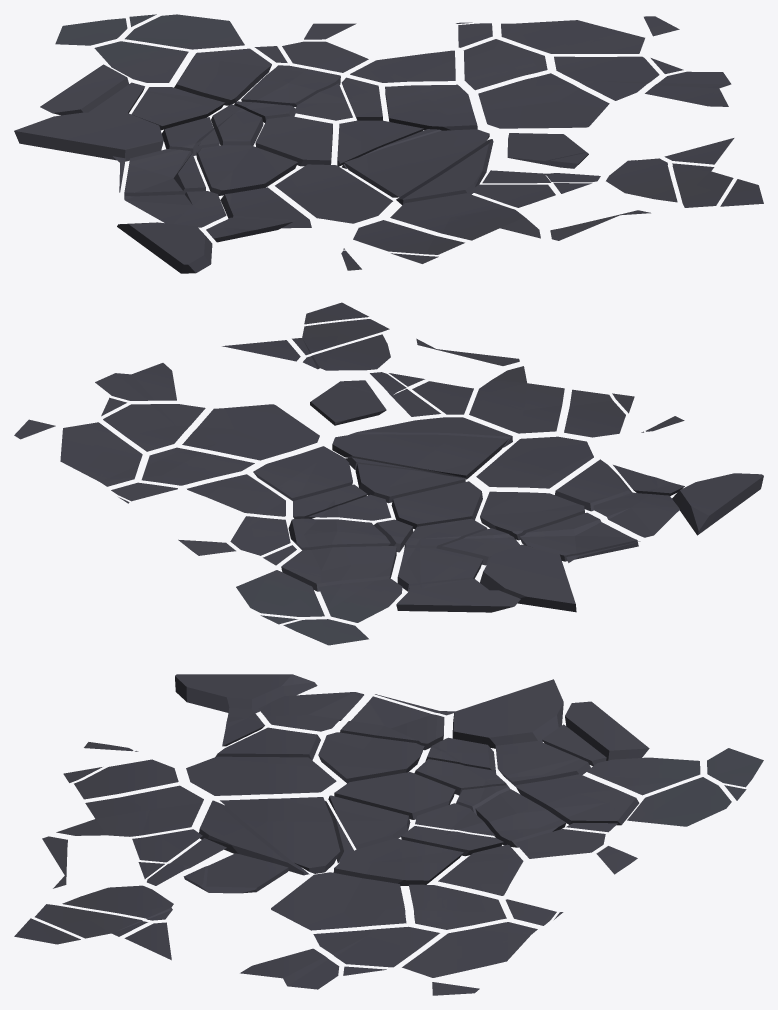
Rendered from rocas.fbx.
3 views of the same model, one above another, from view 1: azimuth 30°, elevation 25°; view 2: azimuth 150°, elevation 25°; view 3: azimuth 270°, elevation 25° (orthographic). The views are drawn at different scales.
Parts seen in each view (by area): view 1: Piso_Detalle1.031, Piso_Detalle1.043, Piso_Detalle1.026, Piso_Detalle1.007, Piso_Detalle1.051, Piso_Detalle1.002, Piso_Detalle1, Piso_Detalle1.039, Piso_Detalle1.013, Piso_Detalle1.030, Piso_Detalle1.016, Piso_Detalle1.045 (+33 smaller); view 2: Piso_Detalle1.026, Piso_Detalle1.043, Piso_Detalle1.031, Piso_Detalle1.051, Piso_Detalle1.007, Piso_Detalle1.039, Piso_Detalle1.002, Piso_Detalle1, Piso_Detalle1.013, Piso_Detalle1.030, Piso_Detalle1.045, Piso_Detalle1.016 (+32 smaller); view 3: Piso_Detalle1.043, Piso_Detalle1.026, Piso_Detalle1.031, Piso_Detalle1.007, Piso_Detalle1.051, Piso_Detalle1.002, Piso_Detalle1.039, Piso_Detalle1, Piso_Detalle1.045, Piso_Detalle1.013, Piso_Detalle1.052, Piso_Detalle1.016 (+33 smaller).
Part boxes in pixels (x1,y1,x2,y2): Piso_Detalle1.031: (14, 112, 163, 161); Piso_Detalle1.043: (478, 73, 609, 128); Piso_Detalle1.026: (344, 129, 489, 197); Piso_Detalle1.007: (275, 164, 392, 223); Piso_Detalle1.051: (390, 193, 540, 240); Piso_Detalle1.002: (501, 20, 644, 53); Piso_Detalle1: (385, 84, 477, 130); Piso_Detalle1.039: (174, 48, 271, 105); Piso_Detalle1.013: (196, 145, 297, 195); Piso_Detalle1.030: (124, 149, 205, 199); Piso_Detalle1.016: (554, 56, 659, 100); Piso_Detalle1.045: (117, 222, 212, 273); Piso_Detalle1.026: (332, 434, 508, 479); Piso_Detalle1.043: (182, 404, 319, 460); Piso_Detalle1.031: (480, 544, 576, 612); Piso_Detalle1.051: (469, 366, 564, 433); Piso_Detalle1.007: (476, 436, 593, 488); Piso_Detalle1.039: (281, 546, 396, 591); Piso_Detalle1.002: (60, 422, 142, 486); Piso_Detalle1: (253, 446, 352, 500); Piso_Detalle1.013: (480, 491, 584, 540); Piso_Detalle1.030: (520, 512, 638, 561); Piso_Detalle1.045: (672, 473, 763, 535); Piso_Detalle1.016: (103, 404, 205, 451); Piso_Detalle1.043: (271, 872, 406, 930); Piso_Detalle1.026: (220, 797, 340, 873); Piso_Detalle1.031: (452, 679, 563, 748); Piso_Detalle1.007: (186, 756, 336, 795); Piso_Detalle1.051: (56, 785, 203, 836); Piso_Detalle1.002: (402, 922, 537, 977); Piso_Detalle1.039: (515, 774, 639, 825); Piso_Detalle1: (333, 838, 463, 885); Piso_Detalle1.045: (175, 674, 317, 713); Piso_Detalle1.013: (318, 732, 424, 783); Piso_Detalle1.052: (334, 772, 455, 819); Piso_Detalle1.016: (313, 926, 439, 967).
Bounding box in the file's own units: 1302 × 26.14 × 1304.
1 material, 1 textured.
